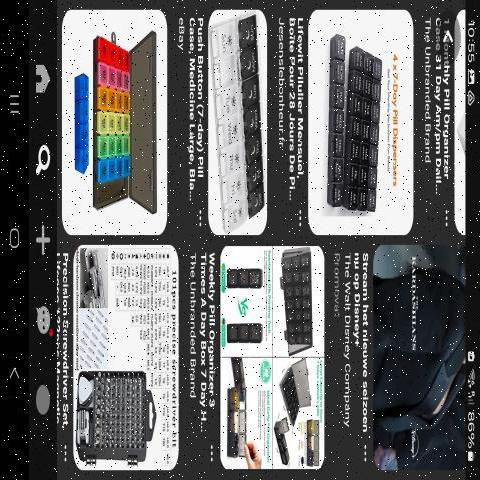PillBox: (318, 22, 392, 218), (206, 9, 264, 227), (272, 248, 318, 349), (224, 364, 259, 462), (280, 351, 314, 431)
